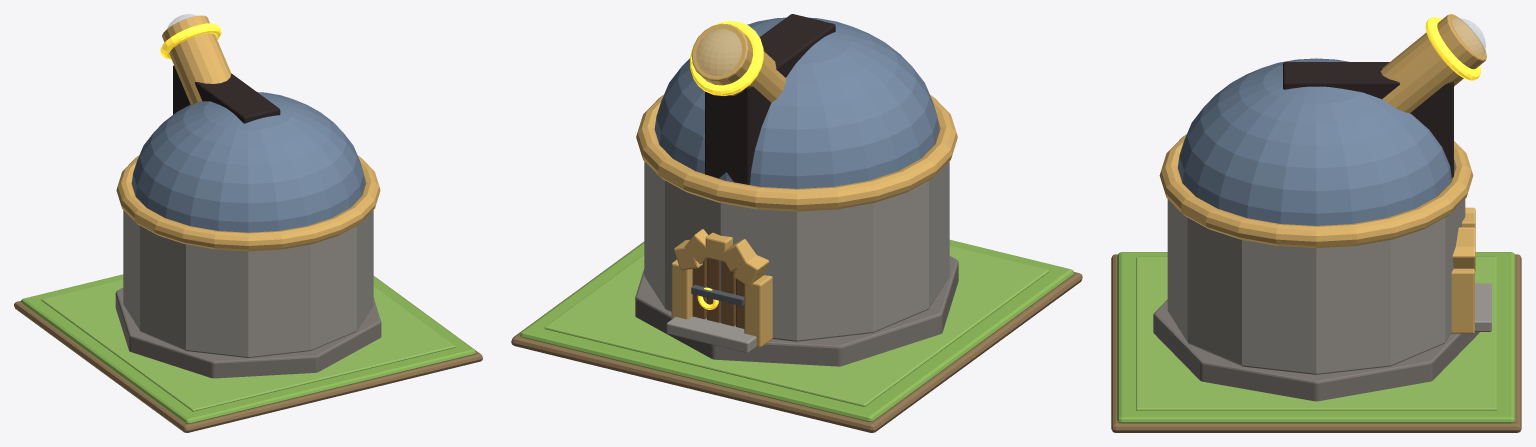
Rendered from star_laboratory_lv5.glb.
3 views of the same model, side by side, from view 1: azimuth 30°, elevation 25°; view 2: azimuth 150°, elevation 25°; view 3: azimuth 270°, elevation 25° (orthographic). The views are drawn at different scales.
Parts seen in each view (by area): view 1: SL_Drum, SL_ObservatoryDome, Base_Inner, Base_Grass, SL_Plinth, SL_DomeTrack, Base_Dirt, TelescopeTubeMain, SL_DomeSlitArch, TelescopeCollar; view 2: SL_Drum, SL_ObservatoryDome, Base_Inner, Base_Grass, SL_DomeTrack, SL_Plinth, SL_DomeSlitArch, Base_Dirt, TelescopeTubeMain, DoorStep, DoorPillar_-1, TelescopeLens (+9 smaller); view 3: SL_Drum, SL_ObservatoryDome, Base_Inner, Base_Grass, SL_DomeTrack, SL_Plinth, Base_Dirt, TelescopeTubeMain, SL_DomeSlitArch, DoorPillar_1, TelescopeCollar, DoorStep (+2 smaller).
Boxes of the visible parts, bbox=[...] form: SL_Drum: bbox=[123, 210, 373, 357]; SL_ObservatoryDome: bbox=[131, 92, 365, 232]; Base_Inner: bbox=[41, 279, 455, 411]; Base_Grass: bbox=[21, 274, 475, 423]; SL_Plinth: bbox=[115, 288, 381, 378]; SL_DomeTrack: bbox=[116, 155, 380, 251]; Base_Dirt: bbox=[14, 276, 482, 432]; TelescopeTubeMain: bbox=[162, 15, 231, 104]; SL_DomeSlitArch: bbox=[173, 65, 280, 123]; TelescopeCollar: bbox=[160, 23, 221, 59]; SL_Drum: bbox=[644, 161, 949, 341]; SL_ObservatoryDome: bbox=[654, 17, 939, 188]; Base_Inner: bbox=[544, 246, 1049, 406]; Base_Grass: bbox=[520, 240, 1073, 421]; SL_DomeTrack: bbox=[636, 95, 957, 211]; SL_Plinth: bbox=[635, 256, 958, 366]; SL_DomeSlitArch: bbox=[705, 14, 835, 184]; Base_Dirt: bbox=[511, 242, 1082, 432]; TelescopeTubeMain: bbox=[691, 23, 785, 102]; DoorStep: bbox=[666, 316, 756, 353]; DoorPillar_-1: bbox=[744, 275, 772, 347]; TelescopeLens: bbox=[696, 29, 741, 75]; SL_Drum: bbox=[1167, 199, 1465, 374]; SL_ObservatoryDome: bbox=[1177, 58, 1455, 225]; Base_Inner: bbox=[1136, 256, 1496, 410]; Base_Grass: bbox=[1117, 252, 1515, 423]; SL_DomeTrack: bbox=[1159, 134, 1473, 248]; SL_Plinth: bbox=[1153, 299, 1479, 401]; Base_Dirt: bbox=[1111, 254, 1521, 432]; TelescopeTubeMain: bbox=[1381, 14, 1486, 113]; SL_DomeSlitArch: bbox=[1283, 62, 1453, 177]; DoorPillar_1: bbox=[1451, 268, 1474, 333]; TelescopeCollar: bbox=[1425, 17, 1480, 80]; DoorStep: bbox=[1475, 283, 1491, 331].
Size of the model in its own units: 2.76 by 2.45 by 2.76.
